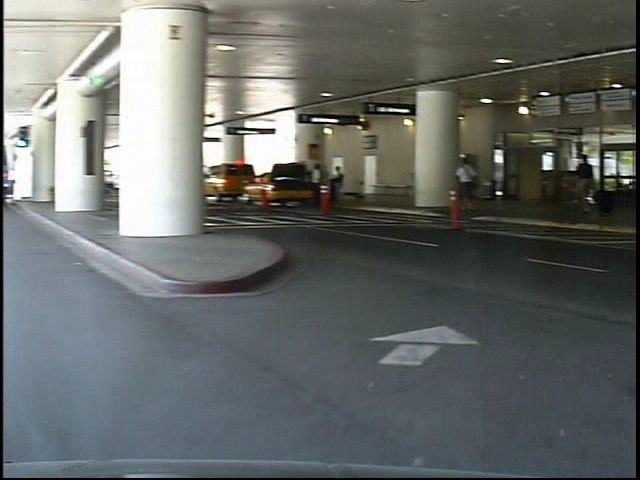person: (579, 145, 607, 220), (463, 151, 489, 214)
